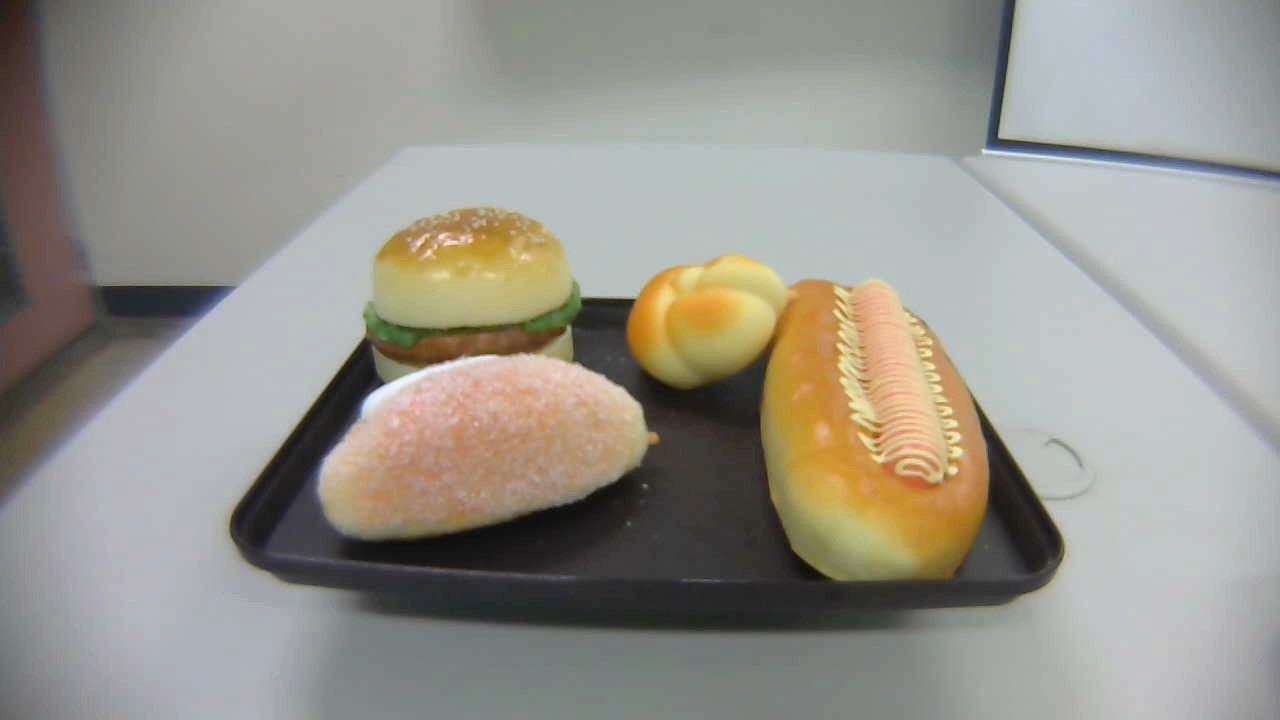coconut: (318, 353, 660, 543)
hamburger: (362, 206, 580, 388)
hot dog: (760, 279, 991, 581)
twist bread: (627, 252, 798, 391)
